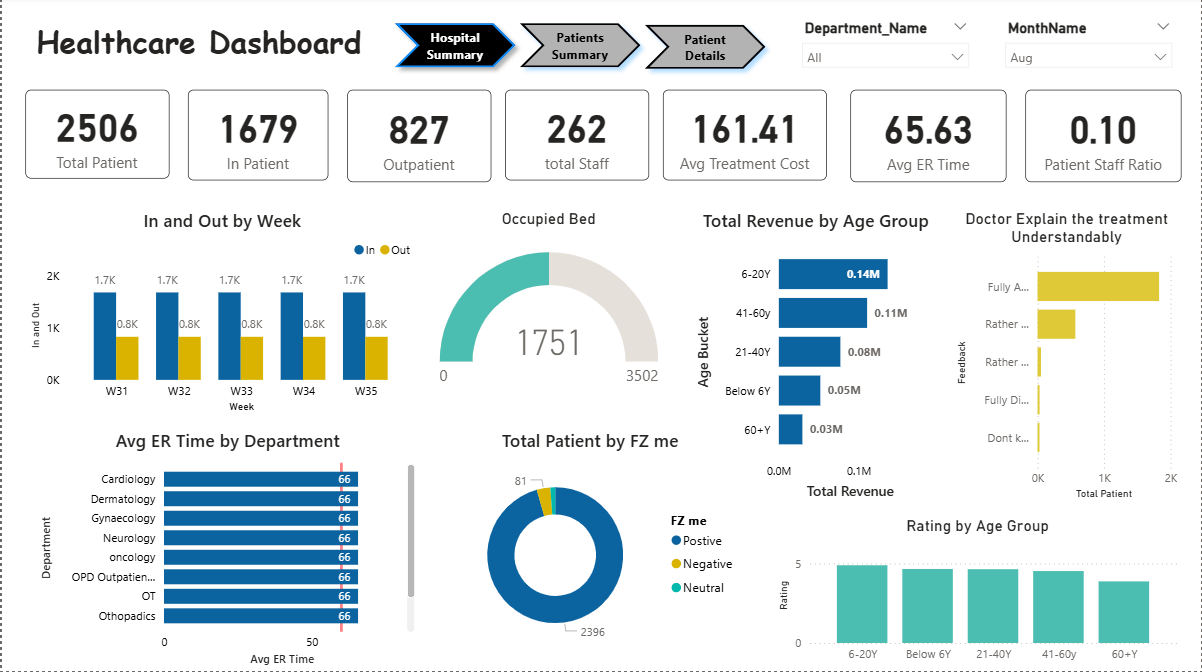

Layout of this report page (visuals, bound fields, positions):
{"tool":"powerbi","page":{"name":"Hospital Summary","canvas":[1280,720],"ordinal":0},"visuals":[{"type":"textbox","box":[10,20,400,83.3],"z":0},{"type":"shape","box":[410,20,146.7,65],"z":1000},{"type":"shape","box":[543.3,20,146.7,65],"z":2000},{"type":"shape","box":[676.7,21.7,146.7,65],"z":3000},{"type":"slicer","fields":{"Values":["Department.Department_Name"]},"box":[843.3,20,198.3,63.3],"z":4000},{"type":"slicer","fields":{"Values":["Calendar_date.MonthName"]},"box":[1060,20,198.3,63.3],"z":5000},{"type":"card","fields":{"Values":["Measure.Total Patient"]},"box":[25,100,153.3,95],"z":6000},{"type":"card","fields":{"Values":["Measure.In Patient"]},"box":[198.3,100,150,96.7],"z":7000},{"type":"card","fields":{"Values":["Measure.Outpatient"]},"box":[368.3,100,153.3,98.3],"z":8000},{"type":"card","fields":{"Values":["Bed_Detail.Patient Staff Ratio"]},"box":[1091.7,100,166.7,98.3],"z":9000},{"type":"card","fields":{"Values":["Measure.Avg ER Time"]},"box":[905,100,166.7,98.3],"z":10000},{"type":"card","fields":{"Values":["Measure.Avg Treatment Cost"]},"box":[705,100,175,96.7],"z":11000},{"type":"card","fields":{"Values":["Bed_Detail.total Staff"]},"box":[536.7,100,153.3,96.7],"z":12000},{"type":"clusteredColumnChart","fields":{"Y":["Calendar_date.In Patient","Calendar_date.Outpatient"],"Category":["Calendar_date.WeekName"]},"box":[25,226.7,420,221.7],"z":13000},{"type":"gauge","fields":{"Y":["Measure.Occupied Bed"]},"box":[461.7,226.7,243.3,221.7],"z":14000},{"type":"clusteredBarChart","title":"Total Revenue by Age Group","fields":{"Y":["Measure.Total Revenue"],"Category":["Detail data dataset.Age Bucket"]},"box":[736.7,226.7,263.3,315],"z":15000},{"type":"barChart","title":"Doctor Explain the treatment Understandably","fields":{"Category":["Detail data dataset.Feedback"],"Y":["Measure.Total Patient"]},"box":[1013.3,226.7,245,315],"z":16000},{"type":"barChart","fields":{"Y":["Measure.Avg ER Time"],"Category":["Department.Department_Name"]},"box":[36.7,461.7,408.3,258.3],"z":17000},{"type":"donutChart","fields":{"Y":["Measure.Total Patient"],"Category":["Detail data dataset.FZ me"]},"box":[461.7,461.7,331.7,245],"z":18000},{"type":"columnChart","title":"Rating by Age Group","fields":{"Category":["Detail data dataset.Age Bucket"],"Y":["Measure.Rating"]},"box":[823.3,555,435,165],"z":19000}]}

Visuals, with their boxes in screenshot pixels (x1, y1, x2, y2), scaled from the page's 1280x720 canvas onto the 1202x672 screenshot:
textbox: pyautogui.locateOnScreen(9, 19, 385, 96)
shape: pyautogui.locateOnScreen(385, 19, 523, 79)
shape: pyautogui.locateOnScreen(510, 19, 648, 79)
shape: pyautogui.locateOnScreen(635, 20, 773, 81)
slicer - Department.Department_Name: pyautogui.locateOnScreen(792, 19, 978, 78)
slicer - Calendar_date.MonthName: pyautogui.locateOnScreen(995, 19, 1182, 78)
card - Measure.Total Patient: pyautogui.locateOnScreen(23, 93, 167, 182)
card - Measure.In Patient: pyautogui.locateOnScreen(186, 93, 327, 184)
card - Measure.Outpatient: pyautogui.locateOnScreen(346, 93, 490, 185)
card - Bed_Detail.Patient Staff Ratio: pyautogui.locateOnScreen(1025, 93, 1182, 185)
card - Measure.Avg ER Time: pyautogui.locateOnScreen(850, 93, 1006, 185)
card - Measure.Avg Treatment Cost: pyautogui.locateOnScreen(662, 93, 826, 184)
card - Bed_Detail.total Staff: pyautogui.locateOnScreen(504, 93, 648, 184)
clusteredColumnChart - Calendar_date.In Patient x Calendar_date.Outpatient: pyautogui.locateOnScreen(23, 212, 418, 419)
gauge - Measure.Occupied Bed: pyautogui.locateOnScreen(434, 212, 662, 419)
"Total Revenue by Age Group" clusteredBarChart: pyautogui.locateOnScreen(692, 212, 939, 506)
"Doctor Explain the treatment Understandably" barChart: pyautogui.locateOnScreen(952, 212, 1182, 506)
barChart - Measure.Avg ER Time x Department.Department_Name: pyautogui.locateOnScreen(34, 431, 418, 671)
donutChart - Measure.Total Patient x Detail data dataset.FZ me: pyautogui.locateOnScreen(434, 431, 745, 660)
"Rating by Age Group" columnChart: pyautogui.locateOnScreen(773, 518, 1182, 671)
